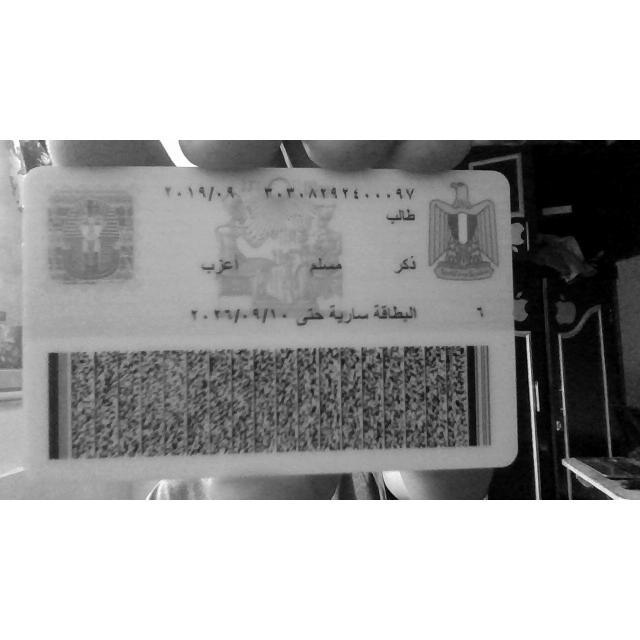id_card: (22, 167, 517, 480)
